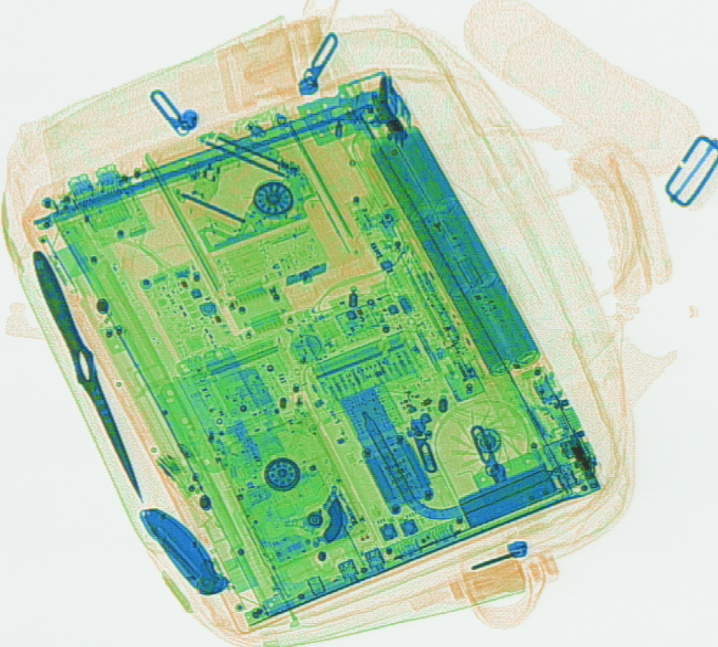knife: (29, 248, 143, 501), (135, 505, 229, 597)
